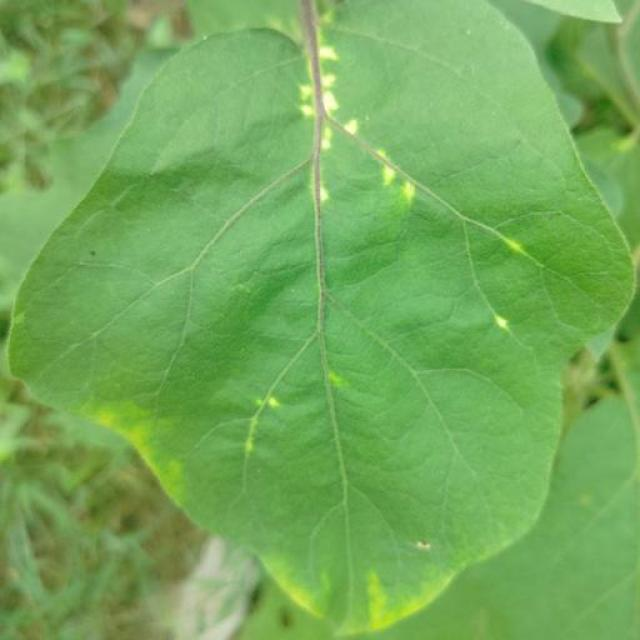leaf_spot: (278, 0, 367, 210), (86, 392, 196, 507), (354, 547, 460, 640), (250, 542, 340, 640), (357, 140, 436, 213), (0, 288, 43, 411), (240, 380, 292, 462), (596, 114, 640, 176), (493, 218, 536, 274), (618, 230, 640, 322), (313, 358, 364, 394), (571, 468, 604, 522), (485, 299, 520, 336)
